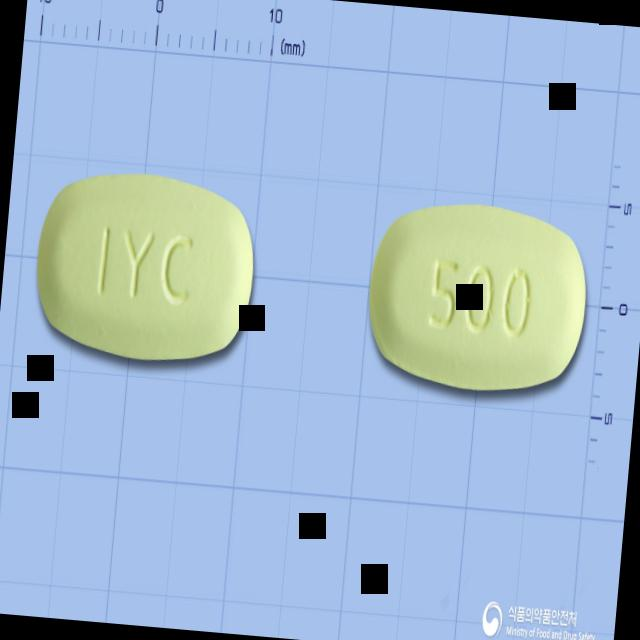Biktarvy: (28, 162, 263, 371), (360, 191, 594, 400)
